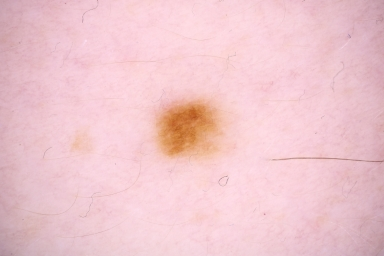nevus: (161, 106, 219, 162)
